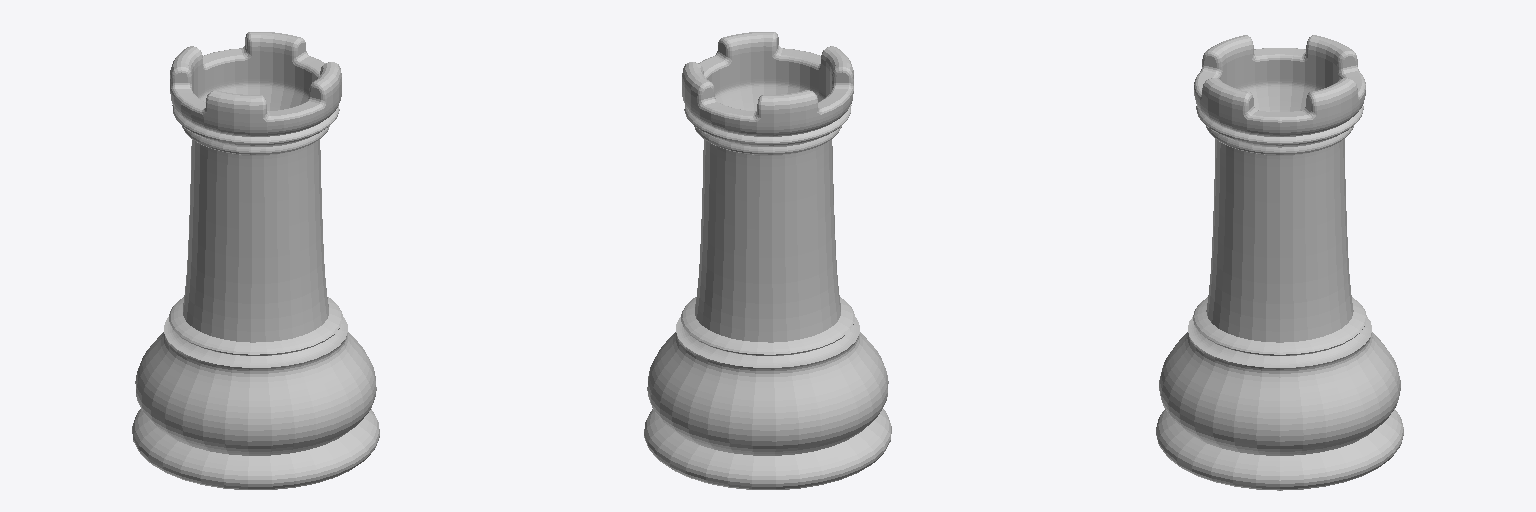
The model's file is tower.obj.
3 views of the same model, side by side, from view 1: azimuth 30°, elevation 25°; view 2: azimuth 150°, elevation 25°; view 3: azimuth 270°, elevation 25° (orthographic).
Parts seen in each view (by area): view 1: cylinder46_defaul.001; view 2: cylinder46_defaul.001; view 3: cylinder46_defaul.001.
Part boxes in pixels (x1,y1,x2,y2): cylinder46_defaul.001: (132,32,379,489); cylinder46_defaul.001: (644,32,891,489); cylinder46_defaul.001: (1156,35,1403,490).
Size of the model in its own units: 1.08 by 1.83 by 1.08.